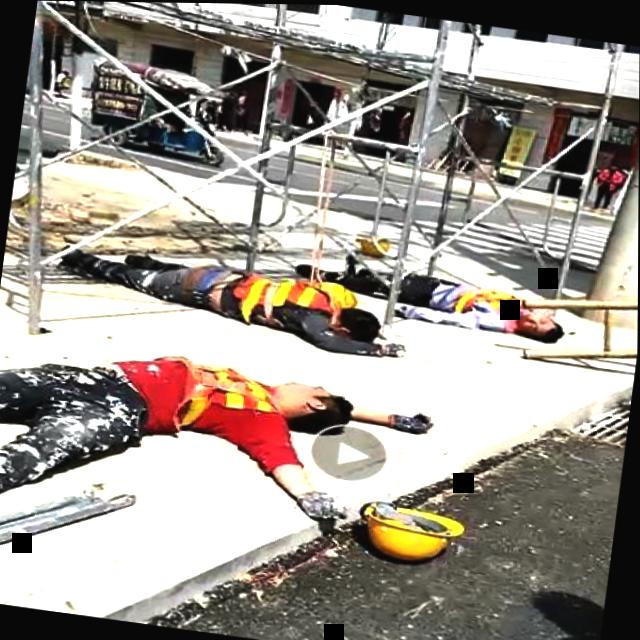Fall-Detected: (287, 228, 590, 351)
